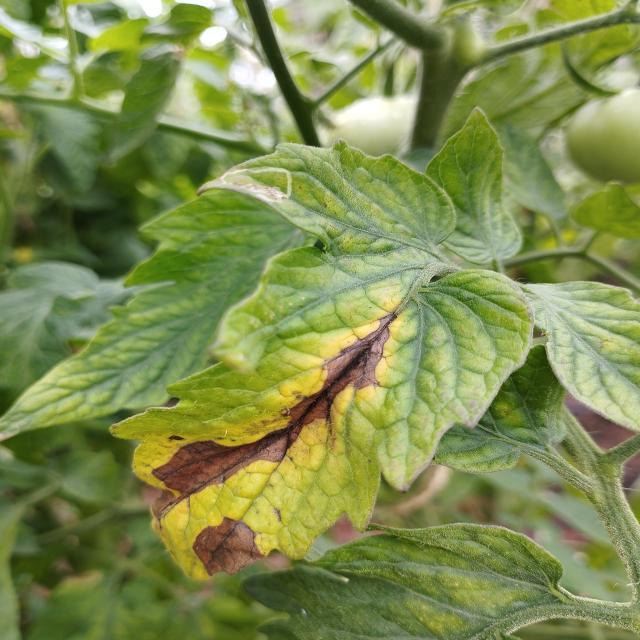Tomato mosaic virus leaf: (102, 244, 544, 586)
